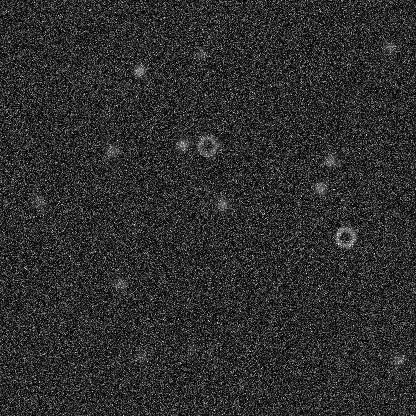Ring: (333, 225, 357, 249), (195, 133, 219, 157), (116, 78, 140, 102)
Spot: (183, 339, 199, 355), (172, 120, 188, 136), (334, 354, 350, 370), (30, 192, 46, 208), (390, 352, 406, 368), (322, 152, 338, 168), (134, 347, 150, 363), (214, 196, 230, 212), (174, 136, 190, 152), (193, 45, 209, 61), (381, 39, 397, 55), (312, 180, 328, 196), (131, 62, 147, 78), (104, 142, 120, 158), (111, 276, 127, 292)
